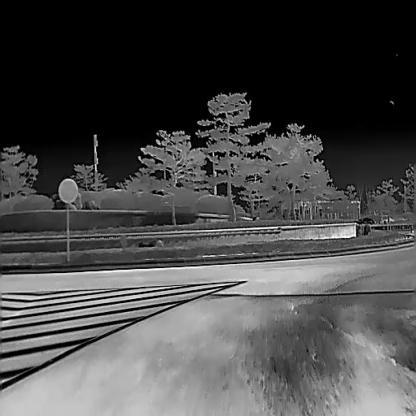car: (352, 217, 376, 223)
